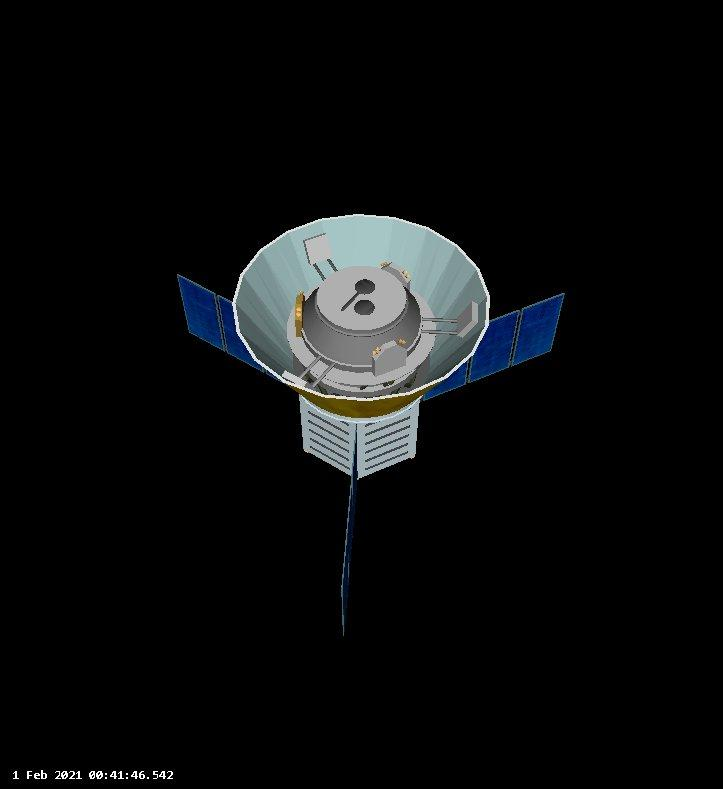body: (297, 397, 423, 479)
solar: (420, 289, 569, 402), (174, 270, 295, 388), (339, 425, 361, 641)
thruster: (228, 212, 493, 416)
